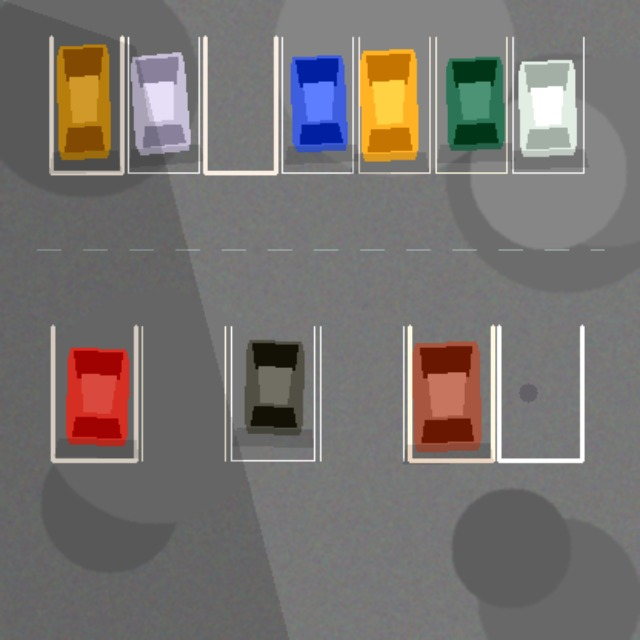space-empty: (498, 326, 582, 460), (142, 326, 225, 460), (320, 326, 403, 460), (205, 37, 275, 172)
space-occupied: (52, 326, 135, 460), (231, 326, 314, 460), (409, 326, 492, 460), (51, 37, 122, 172), (358, 37, 429, 172), (435, 37, 506, 172), (512, 37, 583, 172), (128, 37, 198, 172), (282, 37, 352, 172)
